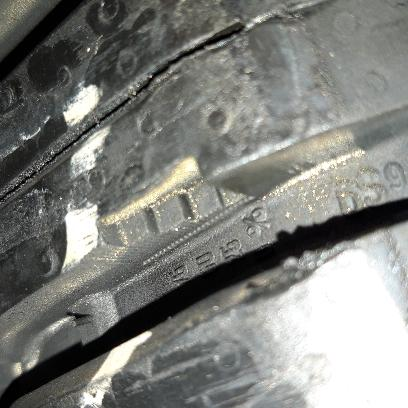temoin:100: (82, 157, 271, 271)
